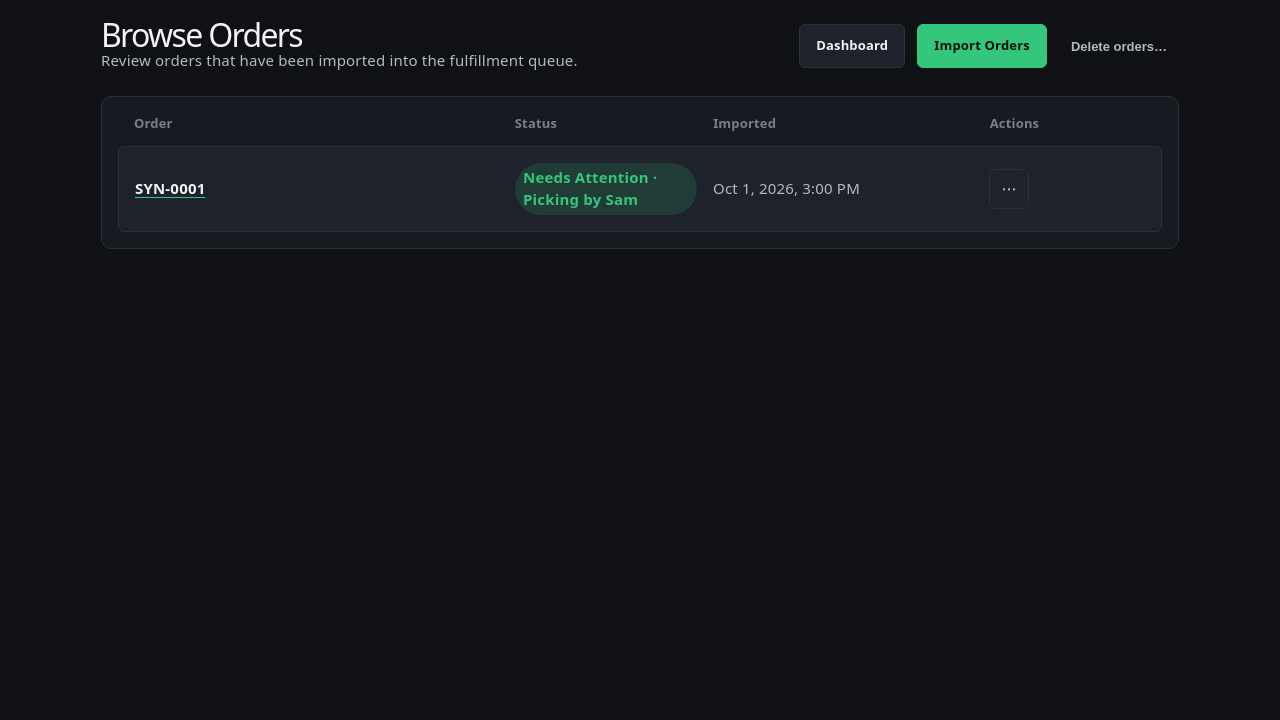
it: OrdersPage deletion › warns about a current claim and an unresolved issue only when they apply (FR-014, FR-022)
The image size is (1280, 720).
Click the button named "actions".
click(1009, 189)  # box left=989, top=169, right=1029, bottom=209
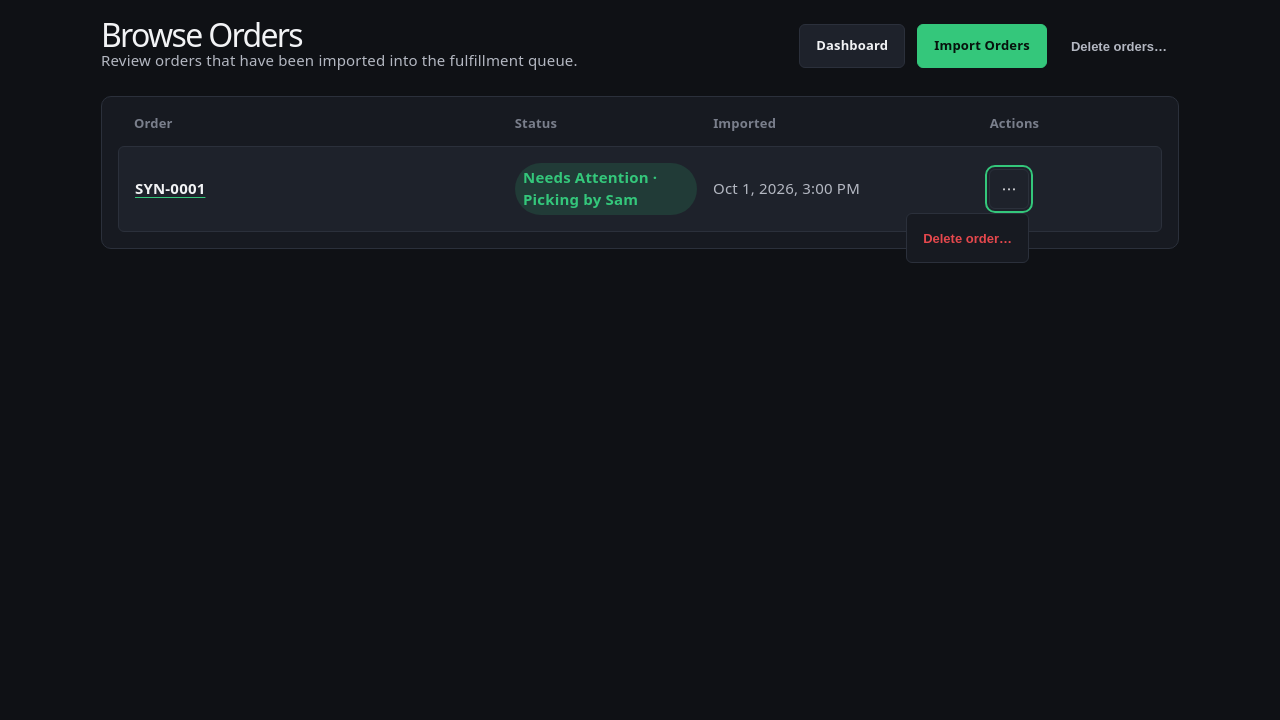
Click the menu item "Delete order…".
click(968, 238)  # box left=911, top=218, right=1024, bottom=258
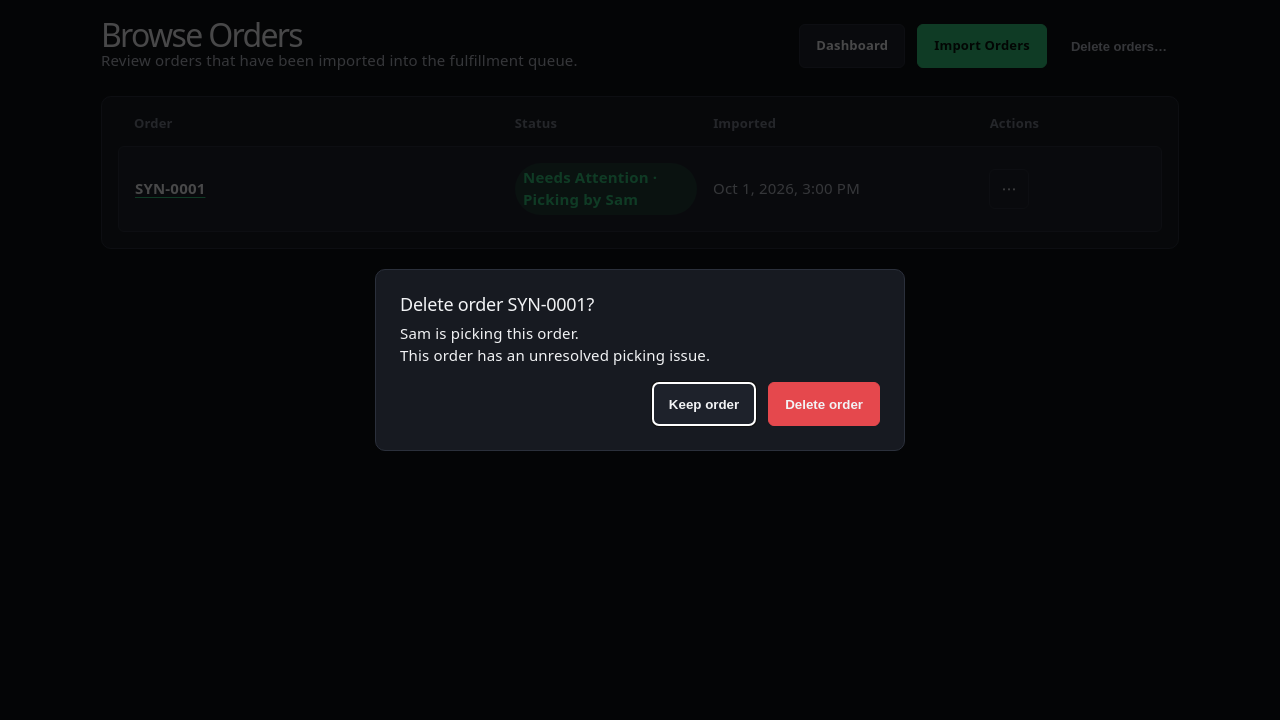
Expected: the text "Sam is picking this order." is shown, left=400, top=323, right=579, bottom=343
Expected: the text "This order has an unresolved picking issue." is shown, left=400, top=345, right=710, bottom=365
